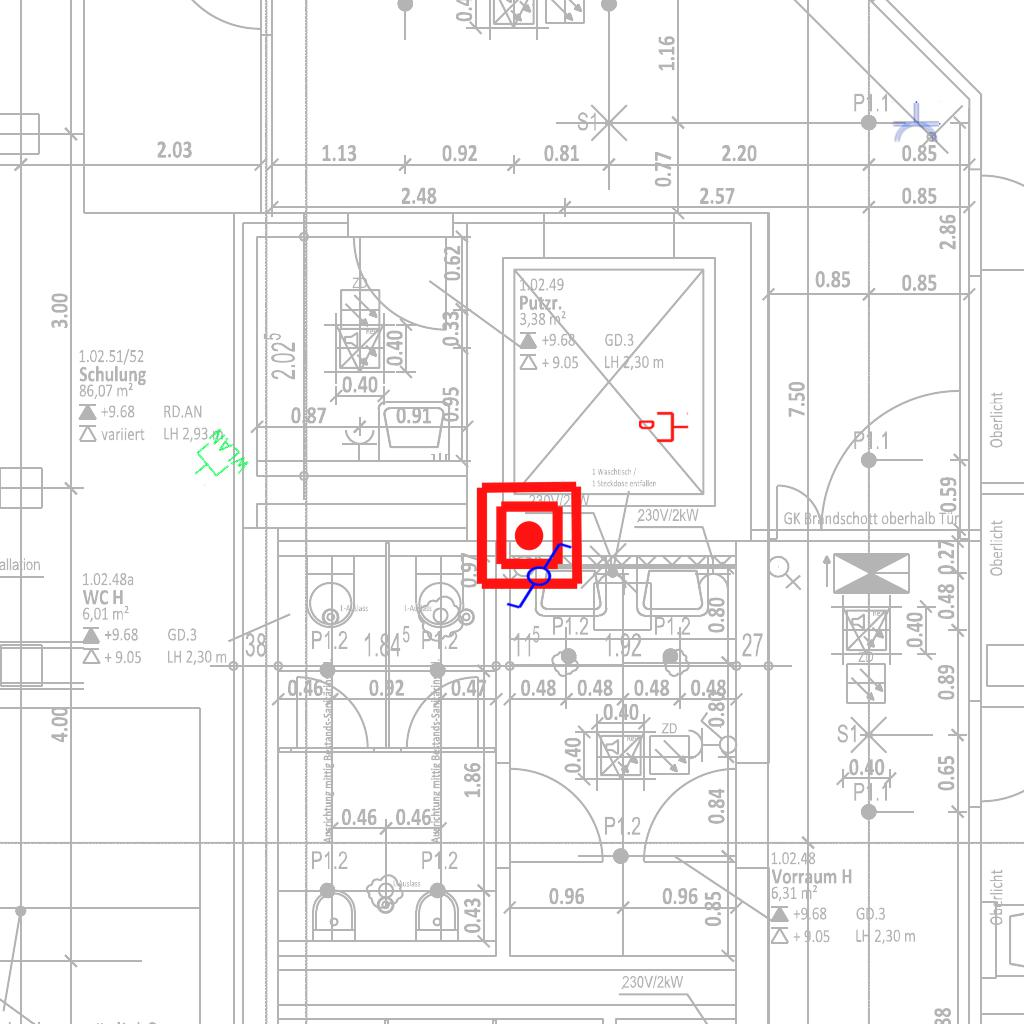Datenanschluss_einfach: (639, 410, 689, 444)
NAM-Nichtautomatischer_Melder: (473, 479, 586, 592)
Schukosteckdose_einfach: (891, 101, 941, 144)
WLAN: (180, 425, 254, 499)
Wechselschalter: (496, 539, 574, 611)
